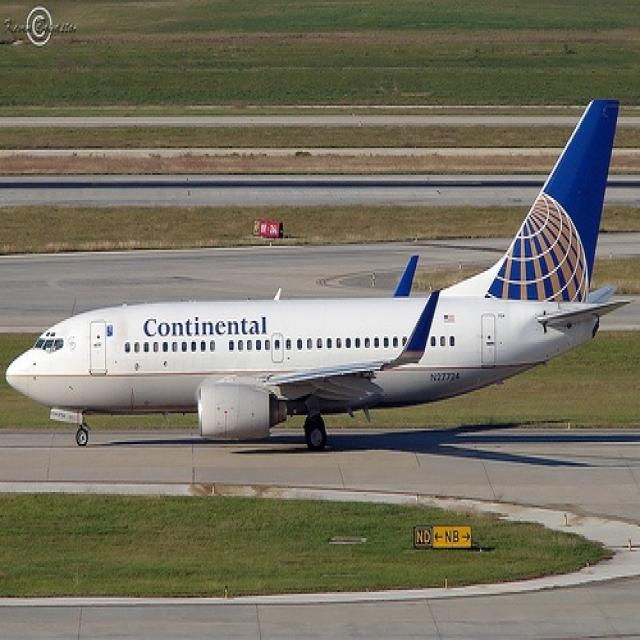aeroplane: (5, 98, 632, 448)
